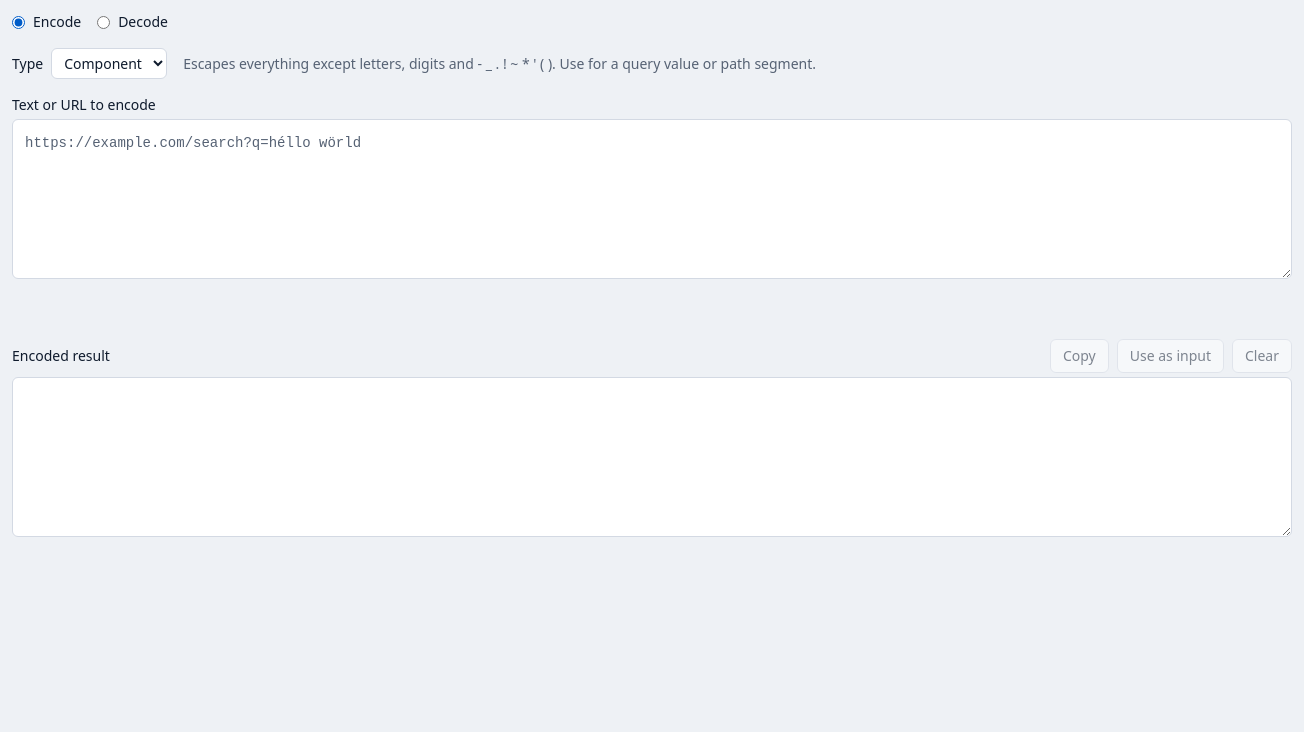
URL tool › decodes and reports malformed input
Click the radio button labelled "Decode".
click(104, 22)  # box [97,16,110,28]
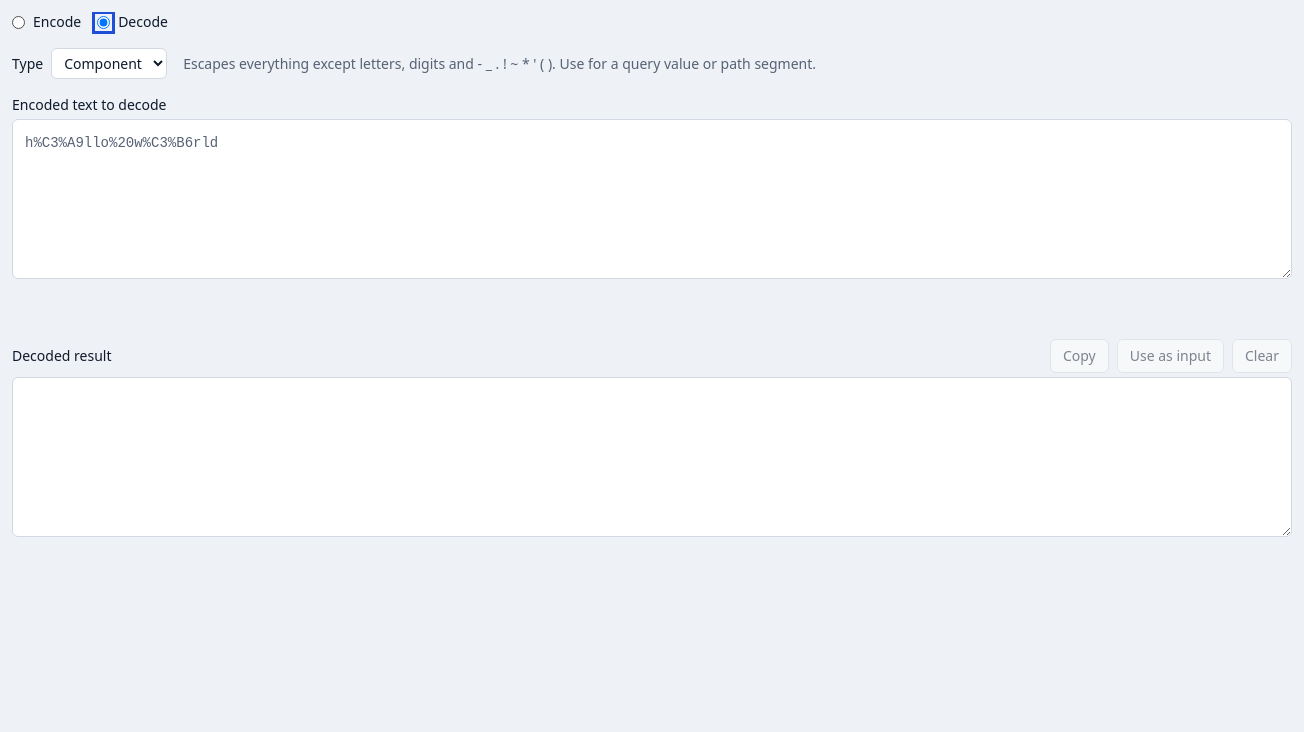
Click the text box labelled "Encoded text to decode".
click(652, 199)  # box [12,119,1292,279]
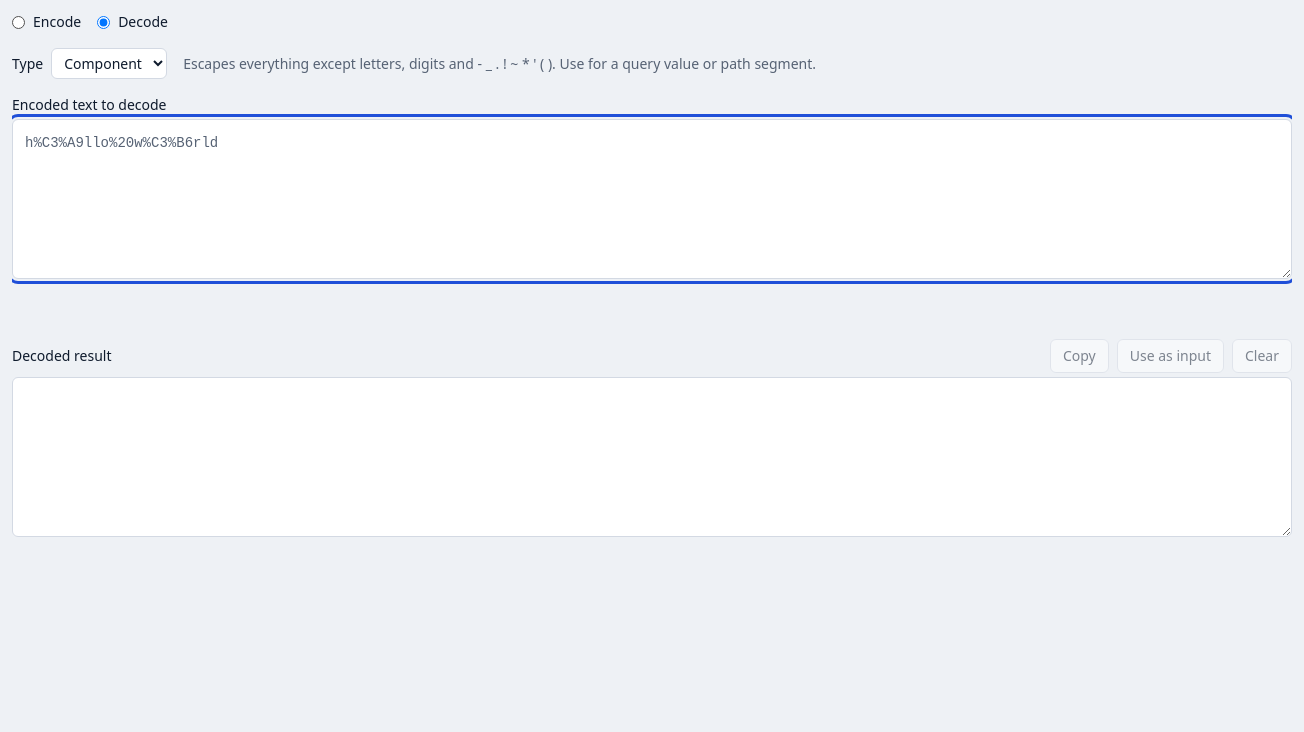
Type keys "100%"
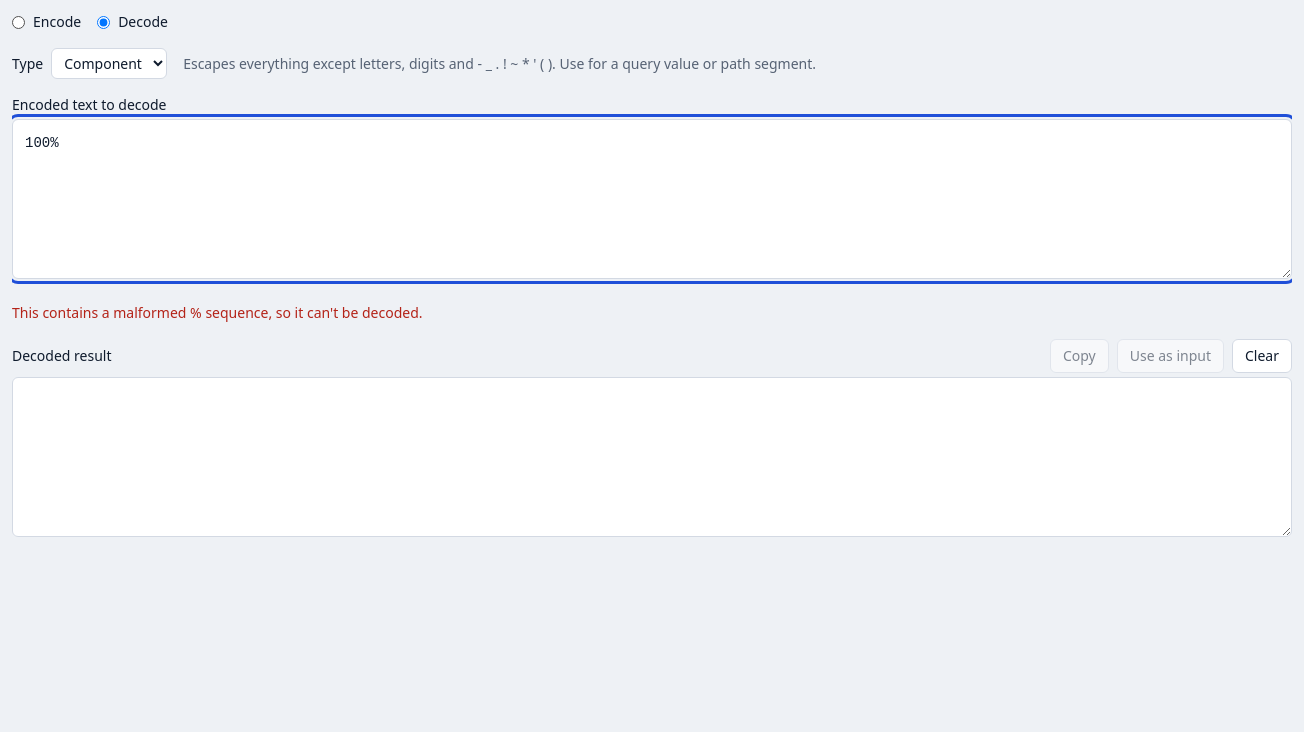
Expected: the message shows "malformed", [12,303,423,322]
